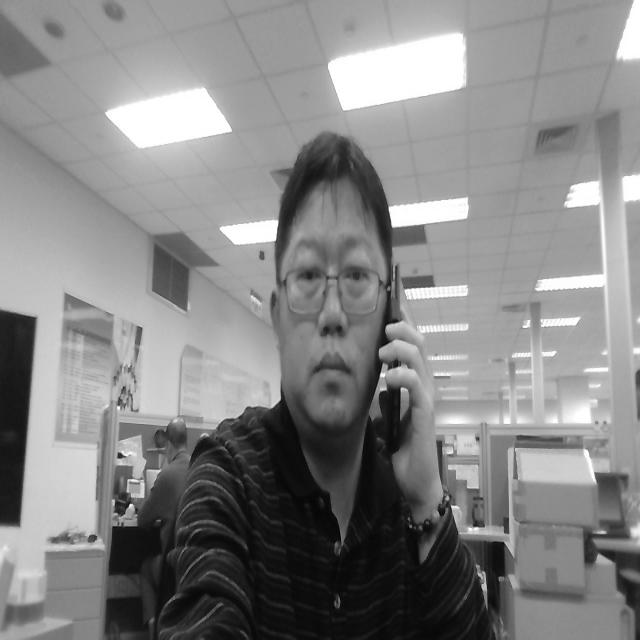phone: (367, 248, 445, 504)
